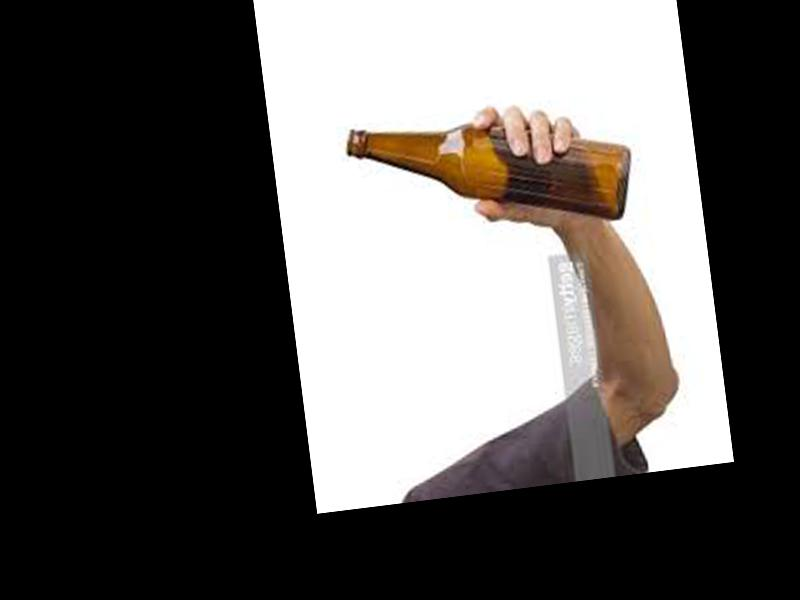Beer: (345, 96, 636, 254)
